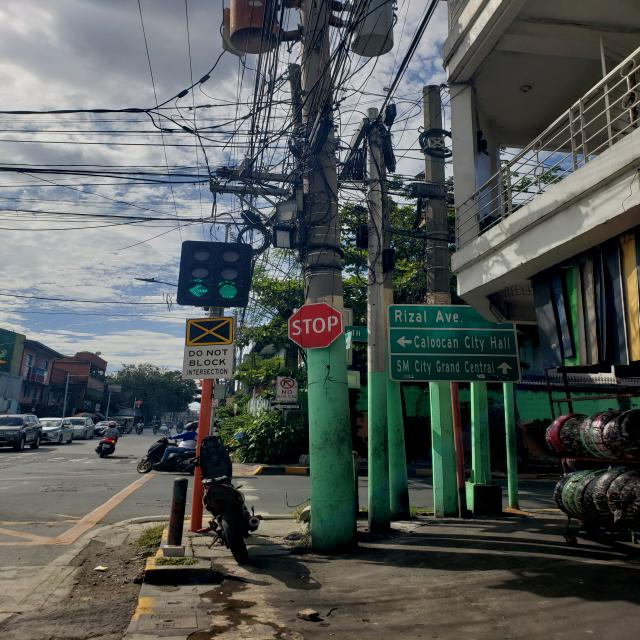stop-sign: (288, 302, 344, 349)
